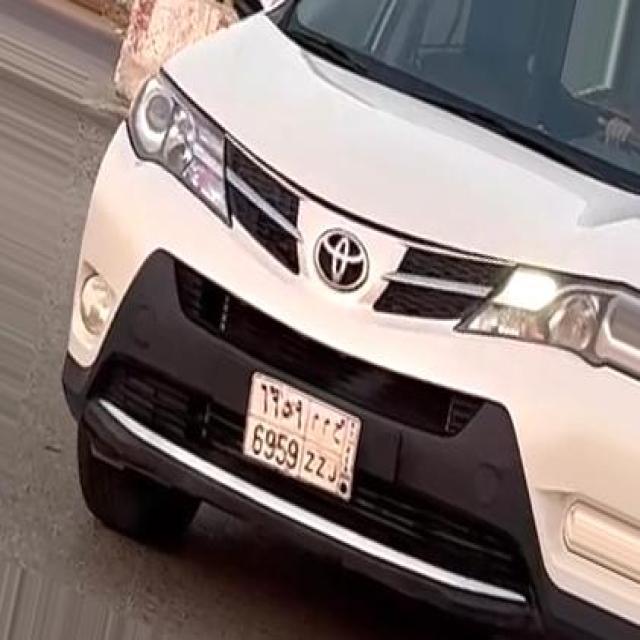Car-plate: (225, 359, 394, 531)
